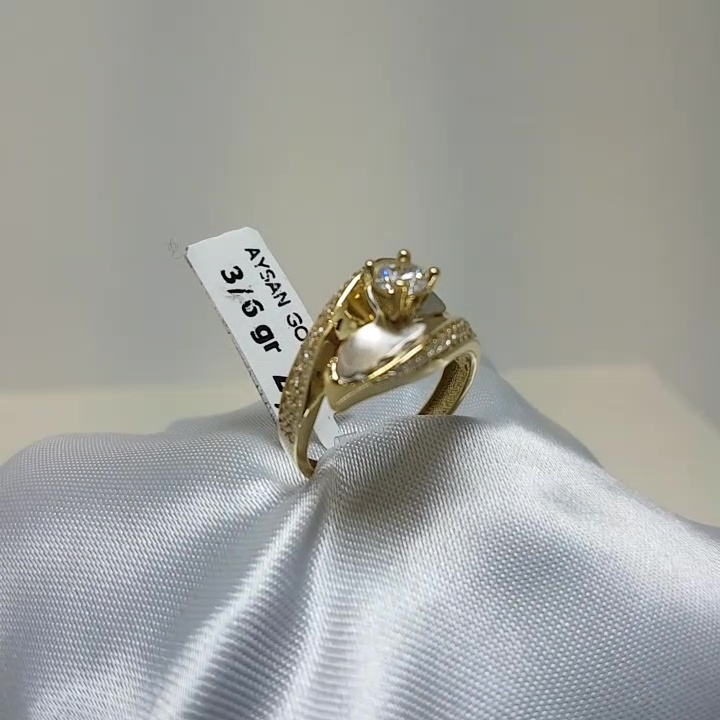Ring 6: (256, 226, 502, 487)
